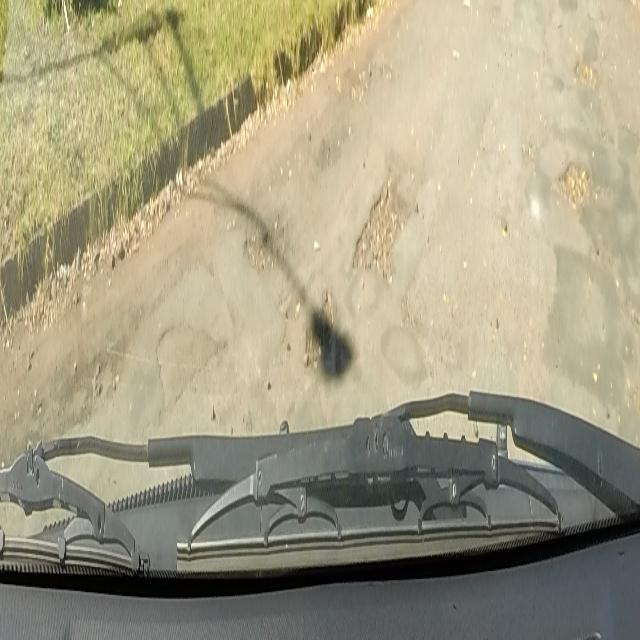pothole: (351, 174, 403, 288), (304, 290, 334, 380), (556, 148, 592, 218), (574, 50, 596, 90)
